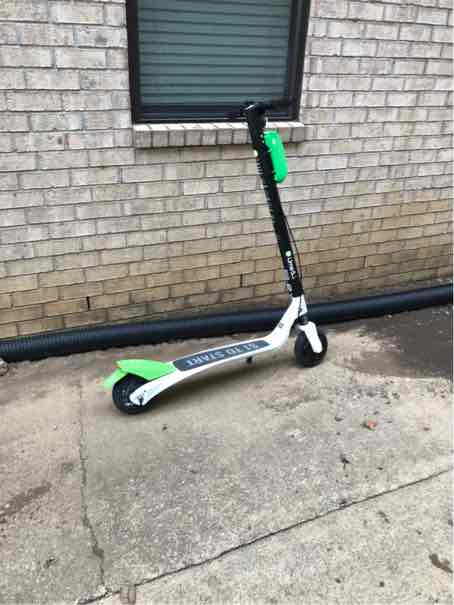scooter: (104, 84, 325, 426)
